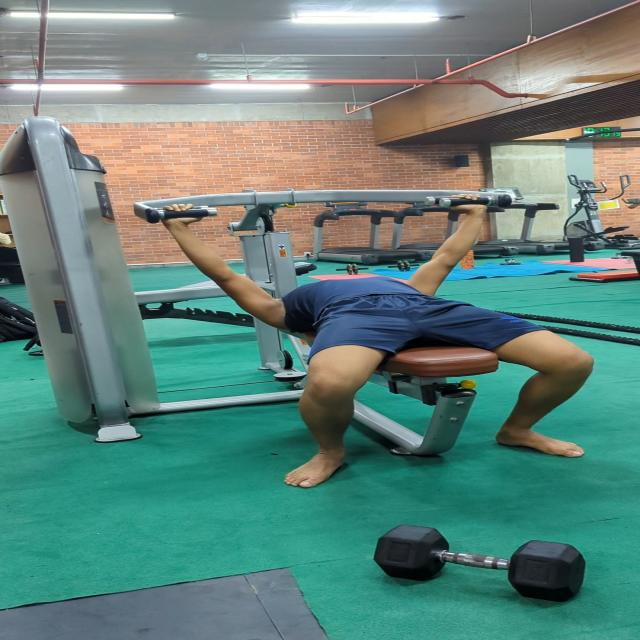Normal_BrenchPress: (130, 198, 640, 504)
